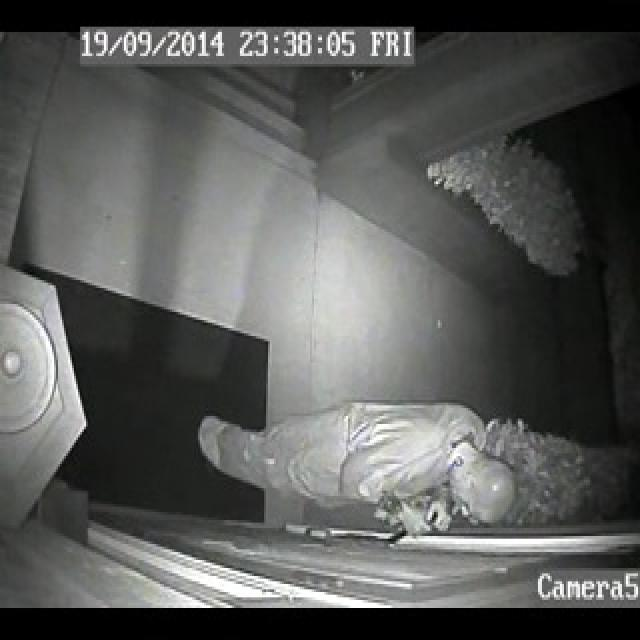thief: (198, 394, 526, 536)
